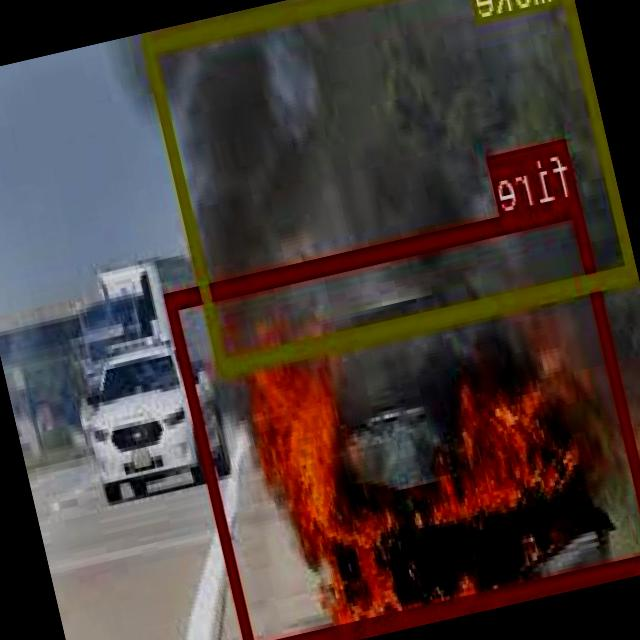fire: (166, 194, 640, 640)
smoke: (142, 0, 637, 370)
